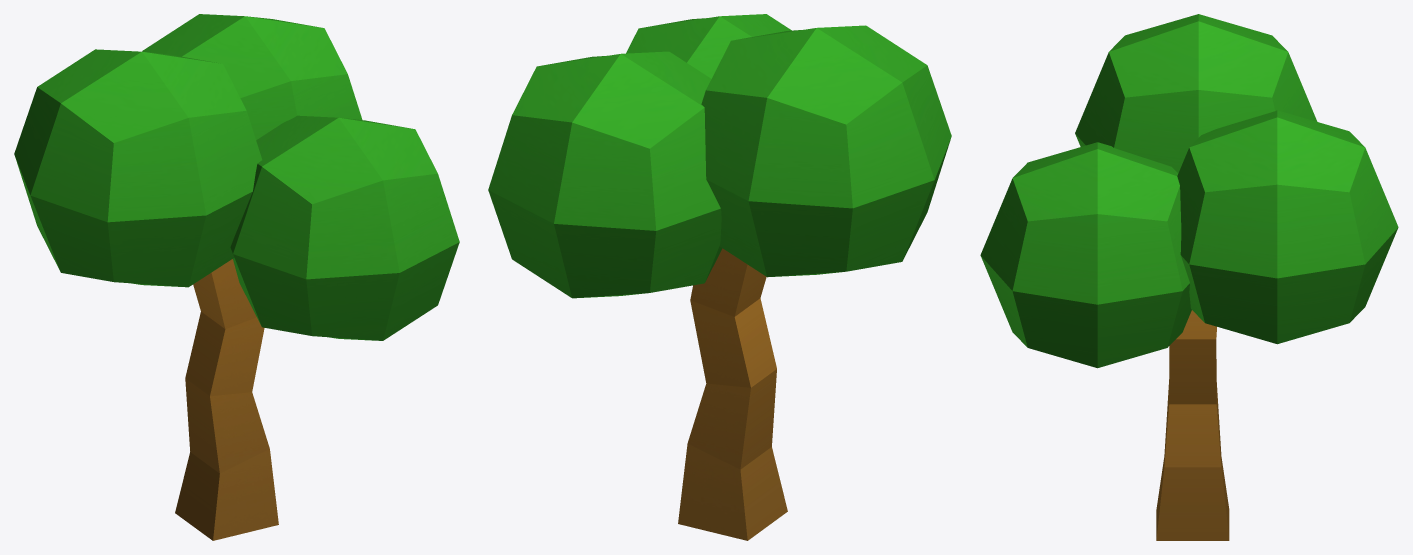
The model's file is Arbol.fbx.
3 renders of one model, left to right at view 1: azimuth 30°, elevation 25°; view 2: azimuth 150°, elevation 25°; view 3: azimuth 270°, elevation 25°, orthographic. The views are drawn at different scales.
Visible parts, largest first — view 1: CopaArbol, Tronco; view 2: CopaArbol, Tronco; view 3: CopaArbol, Tronco.
Boxes of the visible parts, x1,y1,x2,y2 form: CopaArbol: (14, 14, 459, 340); Tronco: (175, 259, 278, 540); CopaArbol: (488, 14, 951, 298); Tronco: (678, 248, 787, 540); CopaArbol: (980, 14, 1398, 368); Tronco: (1156, 310, 1229, 540).
Size of the model in its own units: 2.9 by 3.68 by 3.
1 material, 1 textured.
